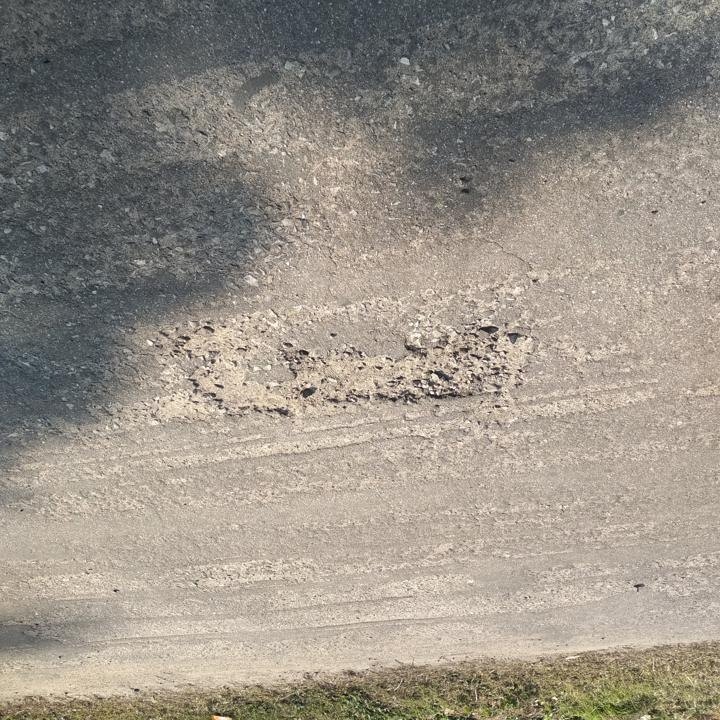pothole: (182, 324, 540, 422)
